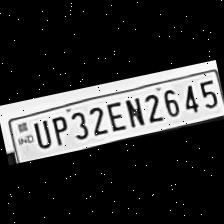2: (83, 102, 108, 137), (140, 88, 164, 124)
3: (65, 106, 90, 142)
4: (175, 80, 200, 114)
5: (194, 75, 220, 111)
6: (156, 84, 182, 119)
E: (101, 98, 126, 134)
N: (120, 94, 145, 130)
P: (46, 112, 71, 148)
U: (27, 115, 52, 150)
